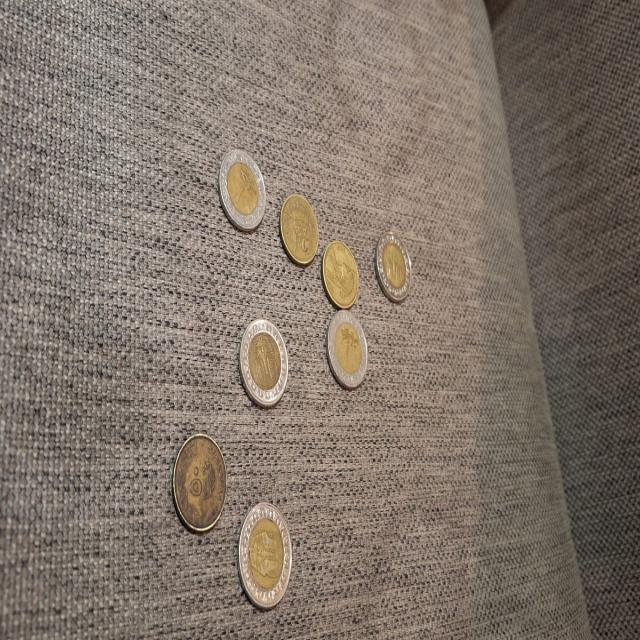Half Pound: (170, 422, 230, 537), (276, 190, 318, 276), (322, 238, 360, 310)
One Pound: (234, 499, 296, 614), (216, 141, 271, 241), (237, 316, 291, 410), (322, 305, 376, 395), (373, 230, 420, 306)
